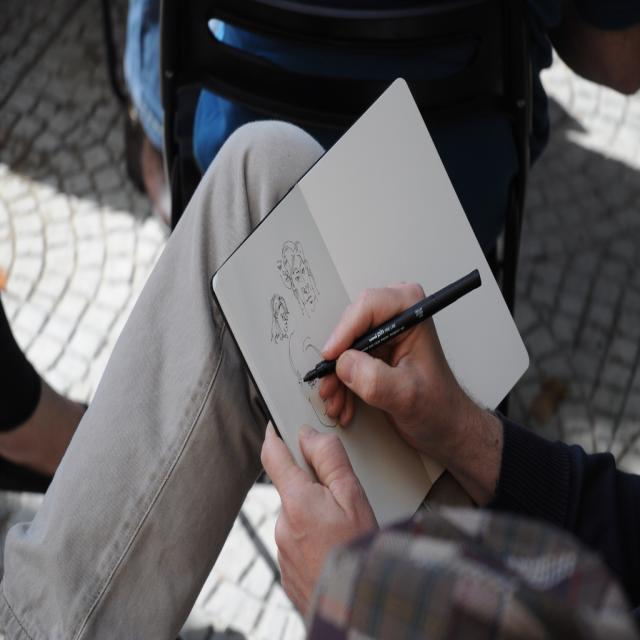pen: (300, 265, 484, 386)
